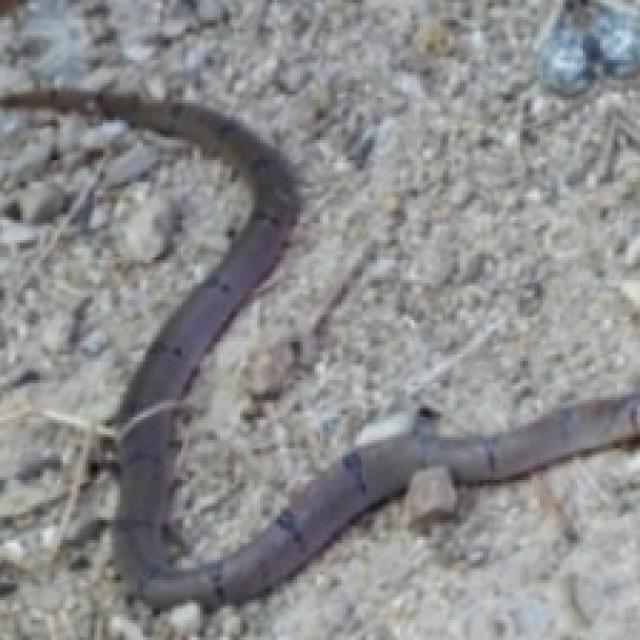northern short-headed snake: (0, 89, 637, 609)
